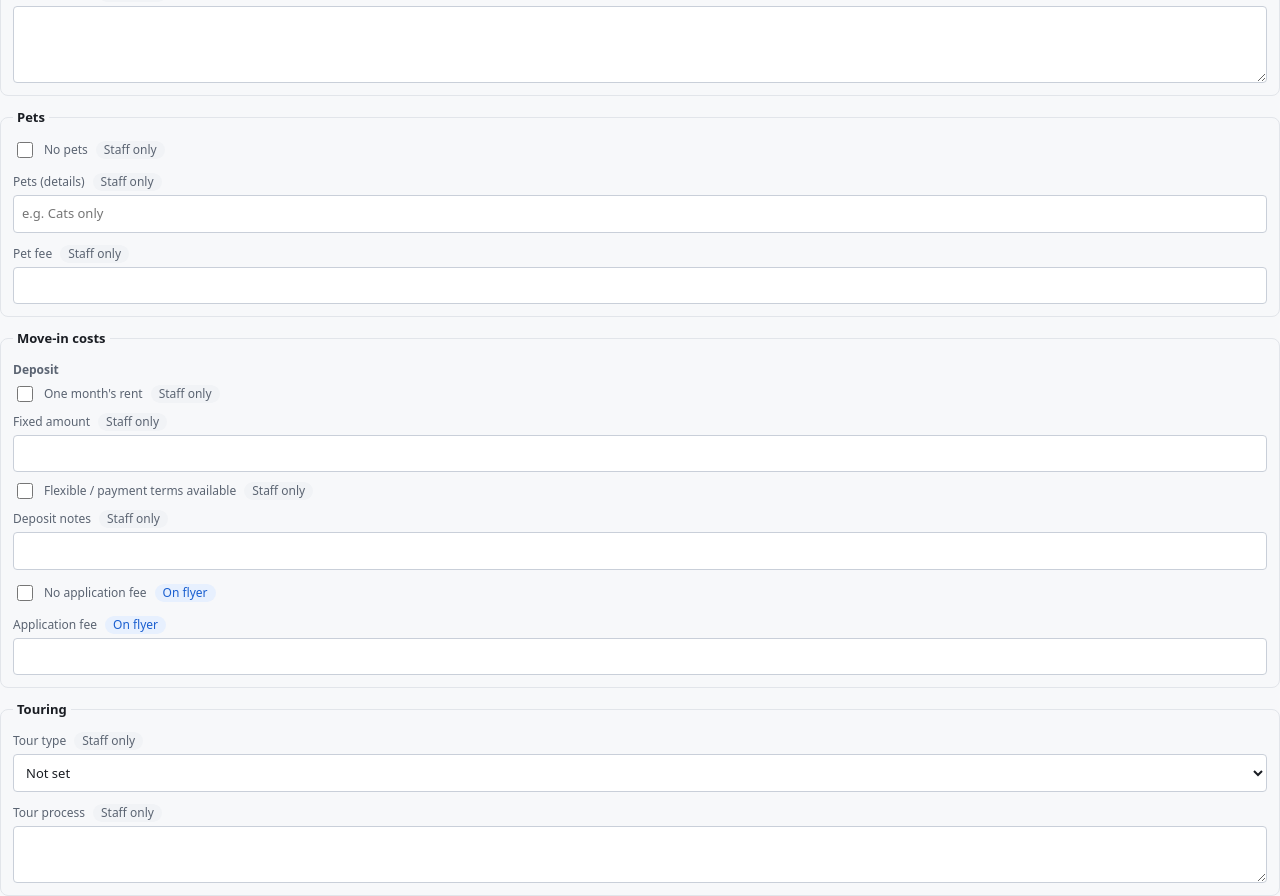
Test: RequirementsFields › No application fee records 0 and disables the amount; unticked, the amount is blank and editable
(page scrolled)
Click the checkbox labelled "No application fee": [25, 592] box x1=17 y1=584 x2=33 y2=600
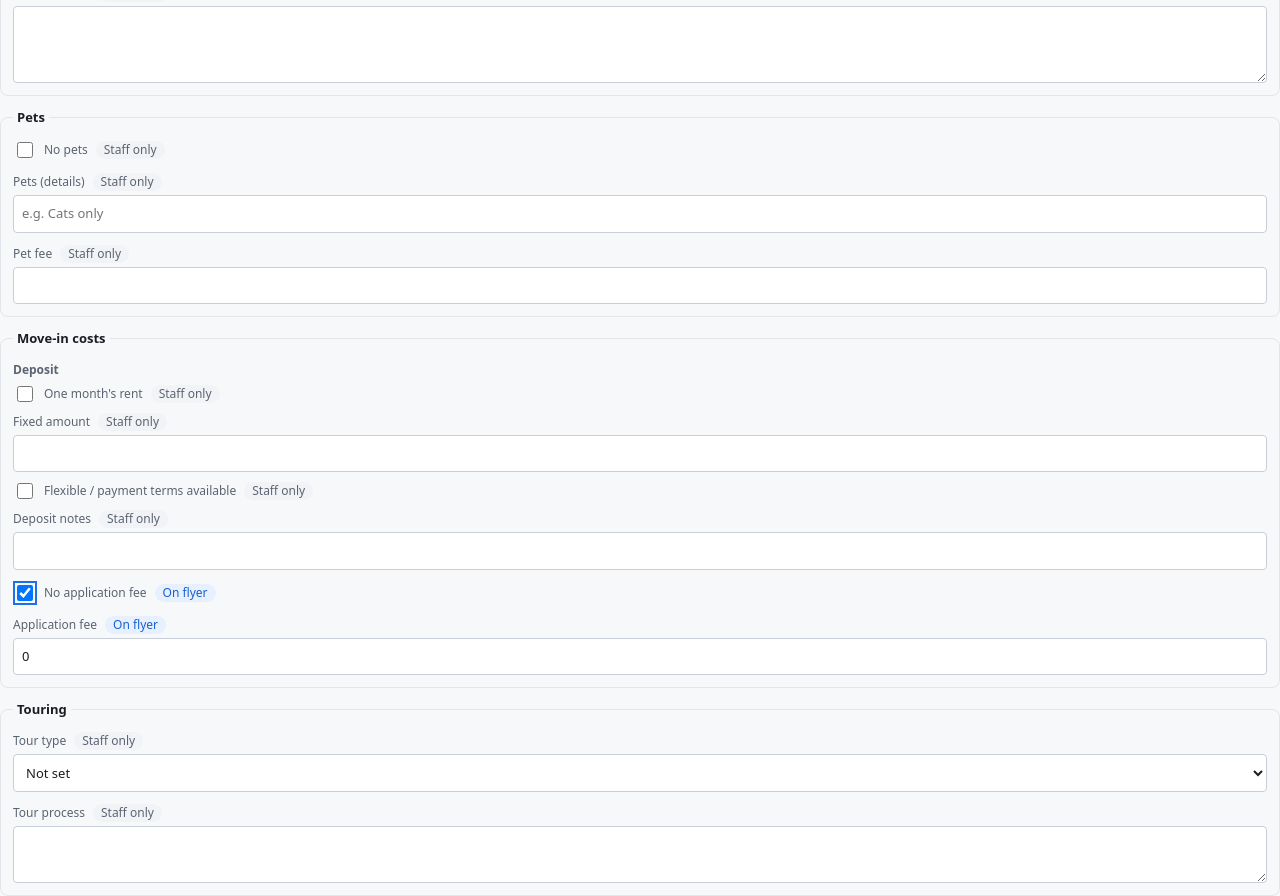
Result: the number field labelled "Application fee" is disabled at x1=13 y1=638 x2=1267 y2=675
Result: the number field labelled "Application fee" holds "0" at x1=13 y1=638 x2=1267 y2=675
Click the checkbox labelled "No application fee": [25, 592] box x1=17 y1=584 x2=33 y2=600
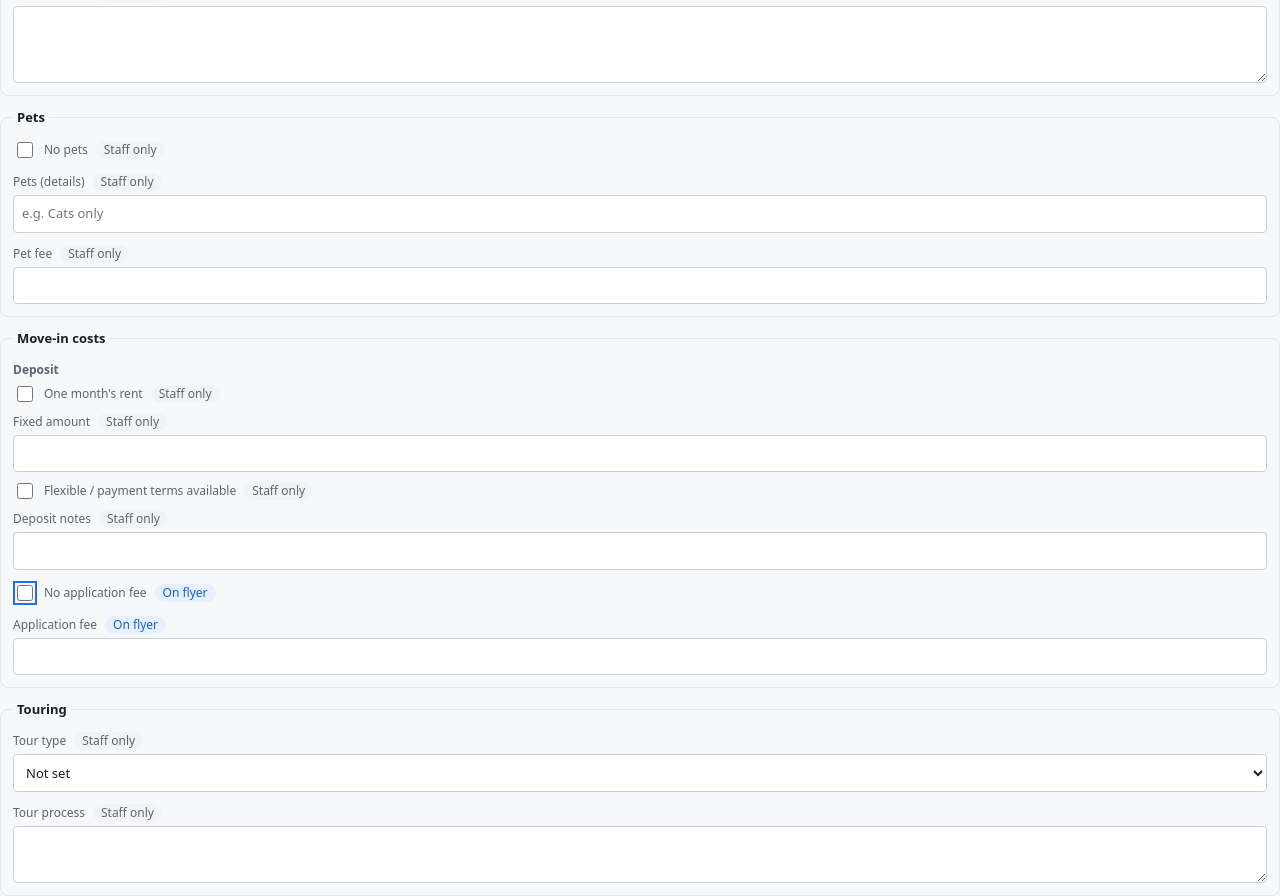
Result: the number field labelled "Application fee" is enabled at x1=13 y1=638 x2=1267 y2=675
Result: the number field labelled "Application fee" is not empty at x1=13 y1=638 x2=1267 y2=675
